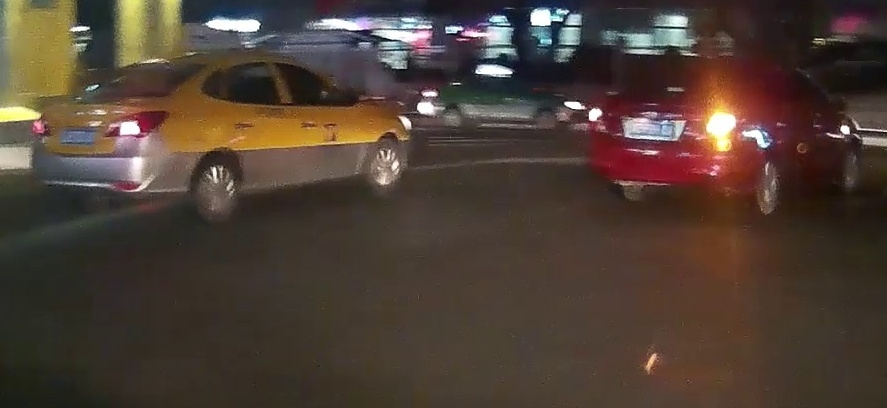L_light: (587, 106, 610, 134), (32, 113, 53, 137)
R_light: (102, 110, 171, 138), (706, 111, 737, 138)
T_light: (666, 87, 685, 92), (108, 94, 129, 97)
night-no: (31, 52, 210, 227)
night-right: (585, 57, 744, 216)
